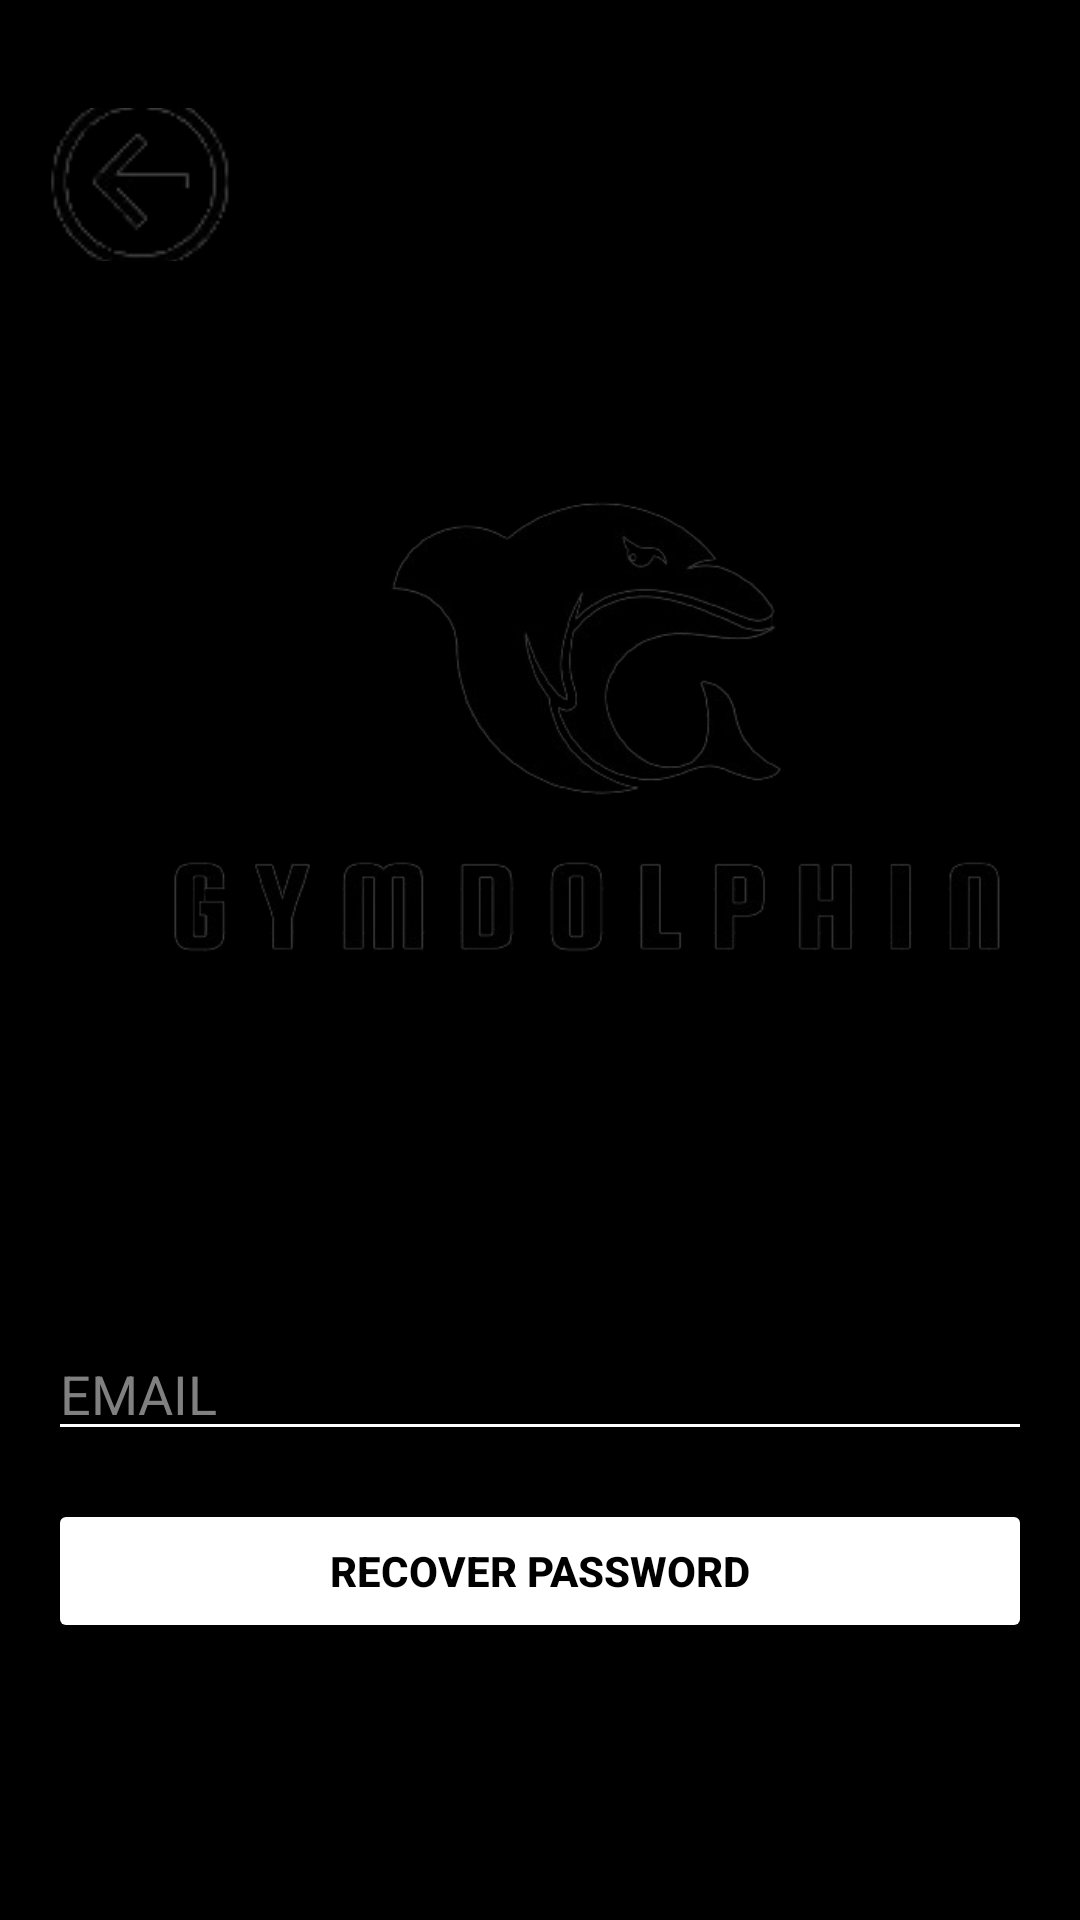

Where to tap for icons on this 1080px x 1920px app screen, as (x,y):
Back Button: (139,184)
